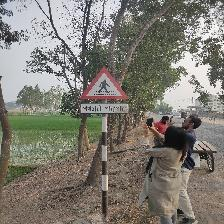Pedestrian-crossing: (79, 66, 130, 114)
